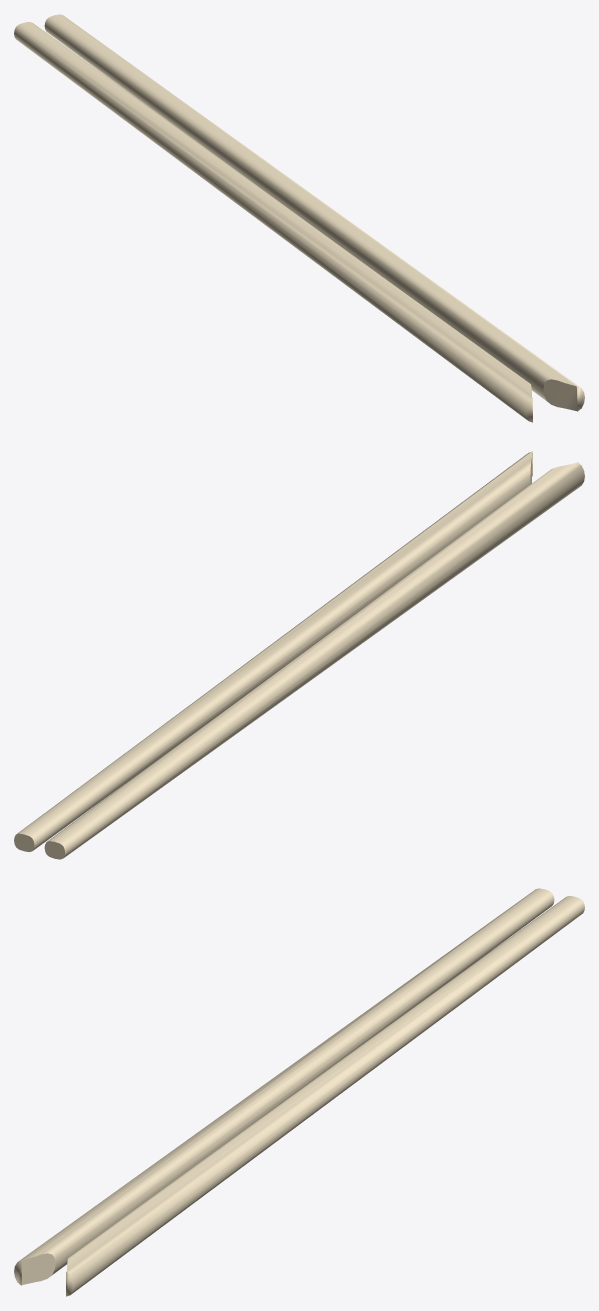
Rendered from palillos.glb.
3 views of the same model, one above another, from view 1: azimuth 30°, elevation 25°; view 2: azimuth 150°, elevation 25°; view 3: azimuth 330°, elevation 25° (orthographic).
Visible parts, largest first — view 1: palillos; view 2: palillos; view 3: palillos.
Boxes of the visible parts, x1,y1,x2,y2 form: palillos: [14, 14, 584, 422]; palillos: [14, 451, 584, 859]; palillos: [14, 888, 584, 1296].
Size of the model in its own units: 1.4 by 0.6 by 21.
